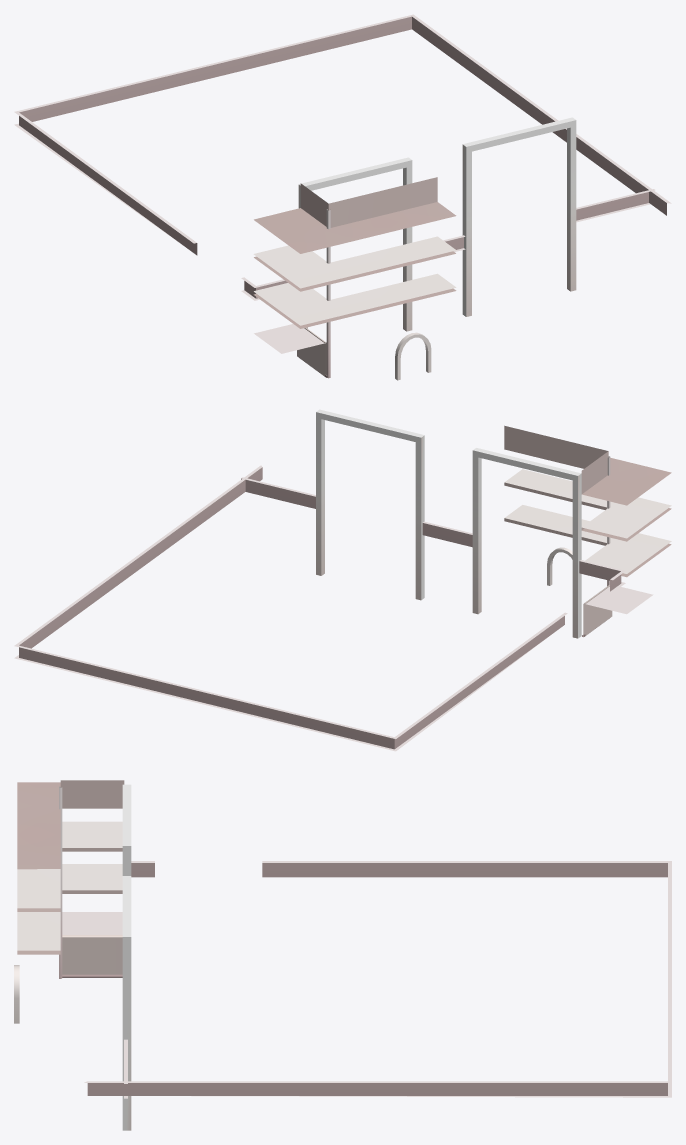
Rendered from Doll_Room_Wall_003_collider.fbx.
3 views of the same model, one above another, from view 1: azimuth 30°, elevation 25°; view 2: azimuth 150°, elevation 25°; view 3: azimuth 270°, elevation 25° (orthographic). The views are drawn at different scales.
Parts seen in each view (by area): view 1: Doll_Room_Wall_003_collider; view 2: Doll_Room_Wall_003_collider; view 3: Doll_Room_Wall_003_collider.
Boxes of the visible parts, x1,y1,x2,y2 form: Doll_Room_Wall_003_collider: (14,14,671,380); Doll_Room_Wall_003_collider: (14,409,671,751); Doll_Room_Wall_003_collider: (14,780,671,1130).
Bounding box in the file's own units: 479 × 198 × 597.
1 material, 1 textured.
